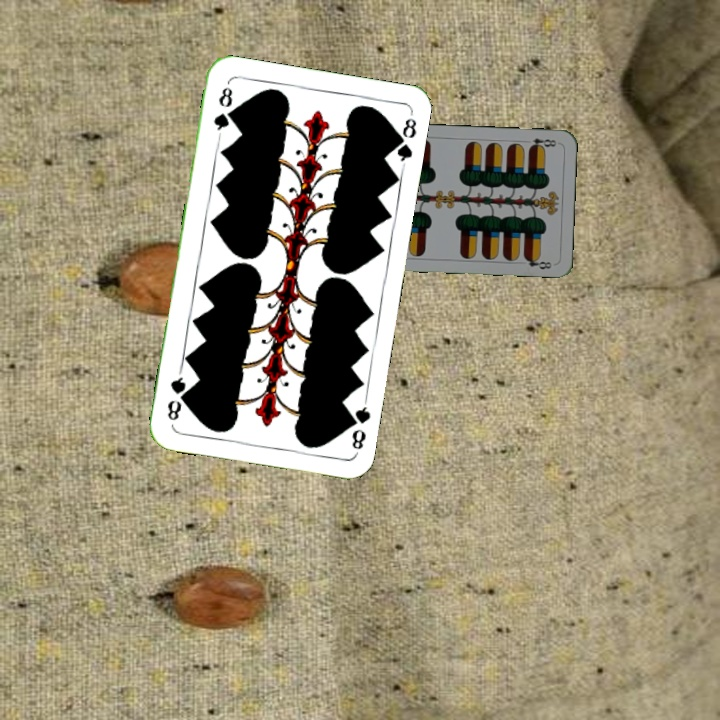E8: (525, 134, 561, 151)
G8: (343, 396, 373, 455), (209, 83, 235, 139)
